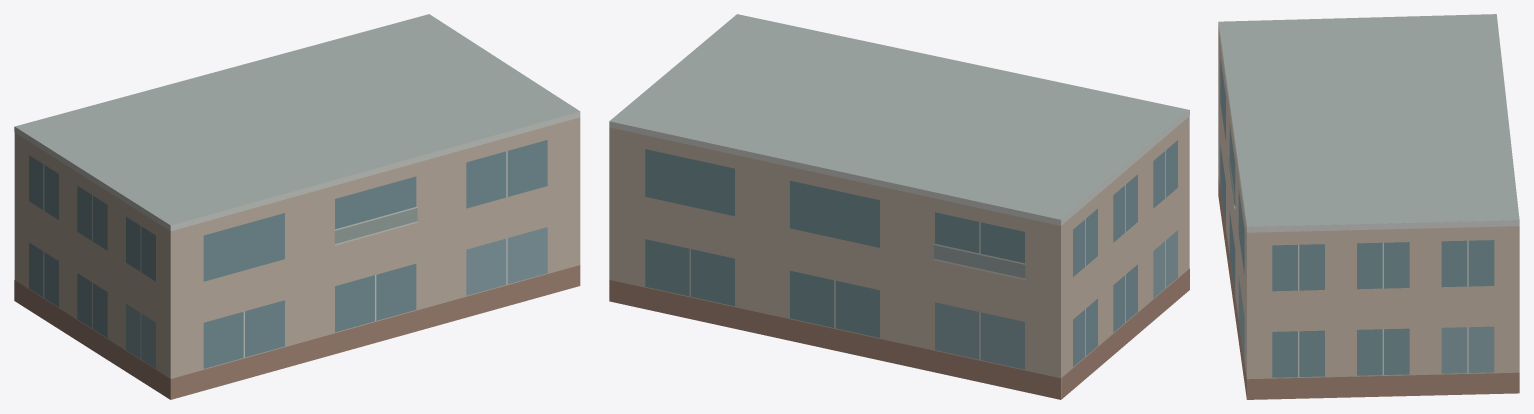
The model's file is survey-upis-32644857.glb.
The picture shows the model from 3 angles, left to right: view 1: azimuth 30°, elevation 25°; view 2: azimuth 150°, elevation 25°; view 3: azimuth 270°, elevation 25°; orthographic projection. The views are drawn at different scales.
Visible parts, largest first — view 1: survey-upis-32644857.tmp; view 2: survey-upis-32644857.tmp; view 3: survey-upis-32644857.tmp.
Part boxes in pixels (x1,y1,x2,y2): survey-upis-32644857.tmp: (14,14,580,399); survey-upis-32644857.tmp: (609,14,1189,399); survey-upis-32644857.tmp: (1218,14,1519,399).
Bounding box in the file's own units: 19.01 × 7.2 × 11.38.
